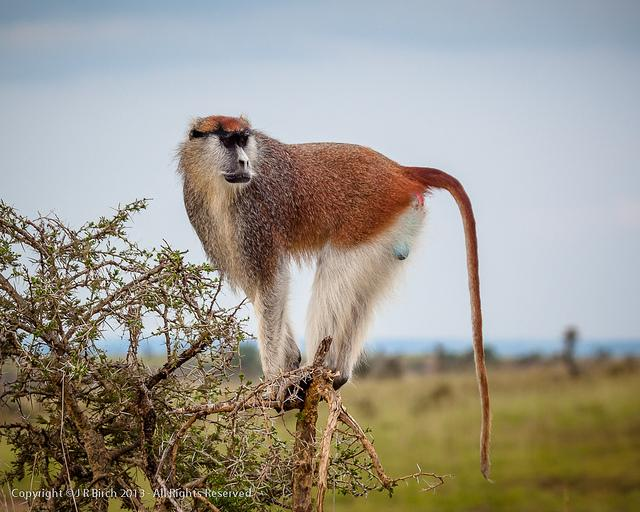monkey: (176, 116, 480, 392)
